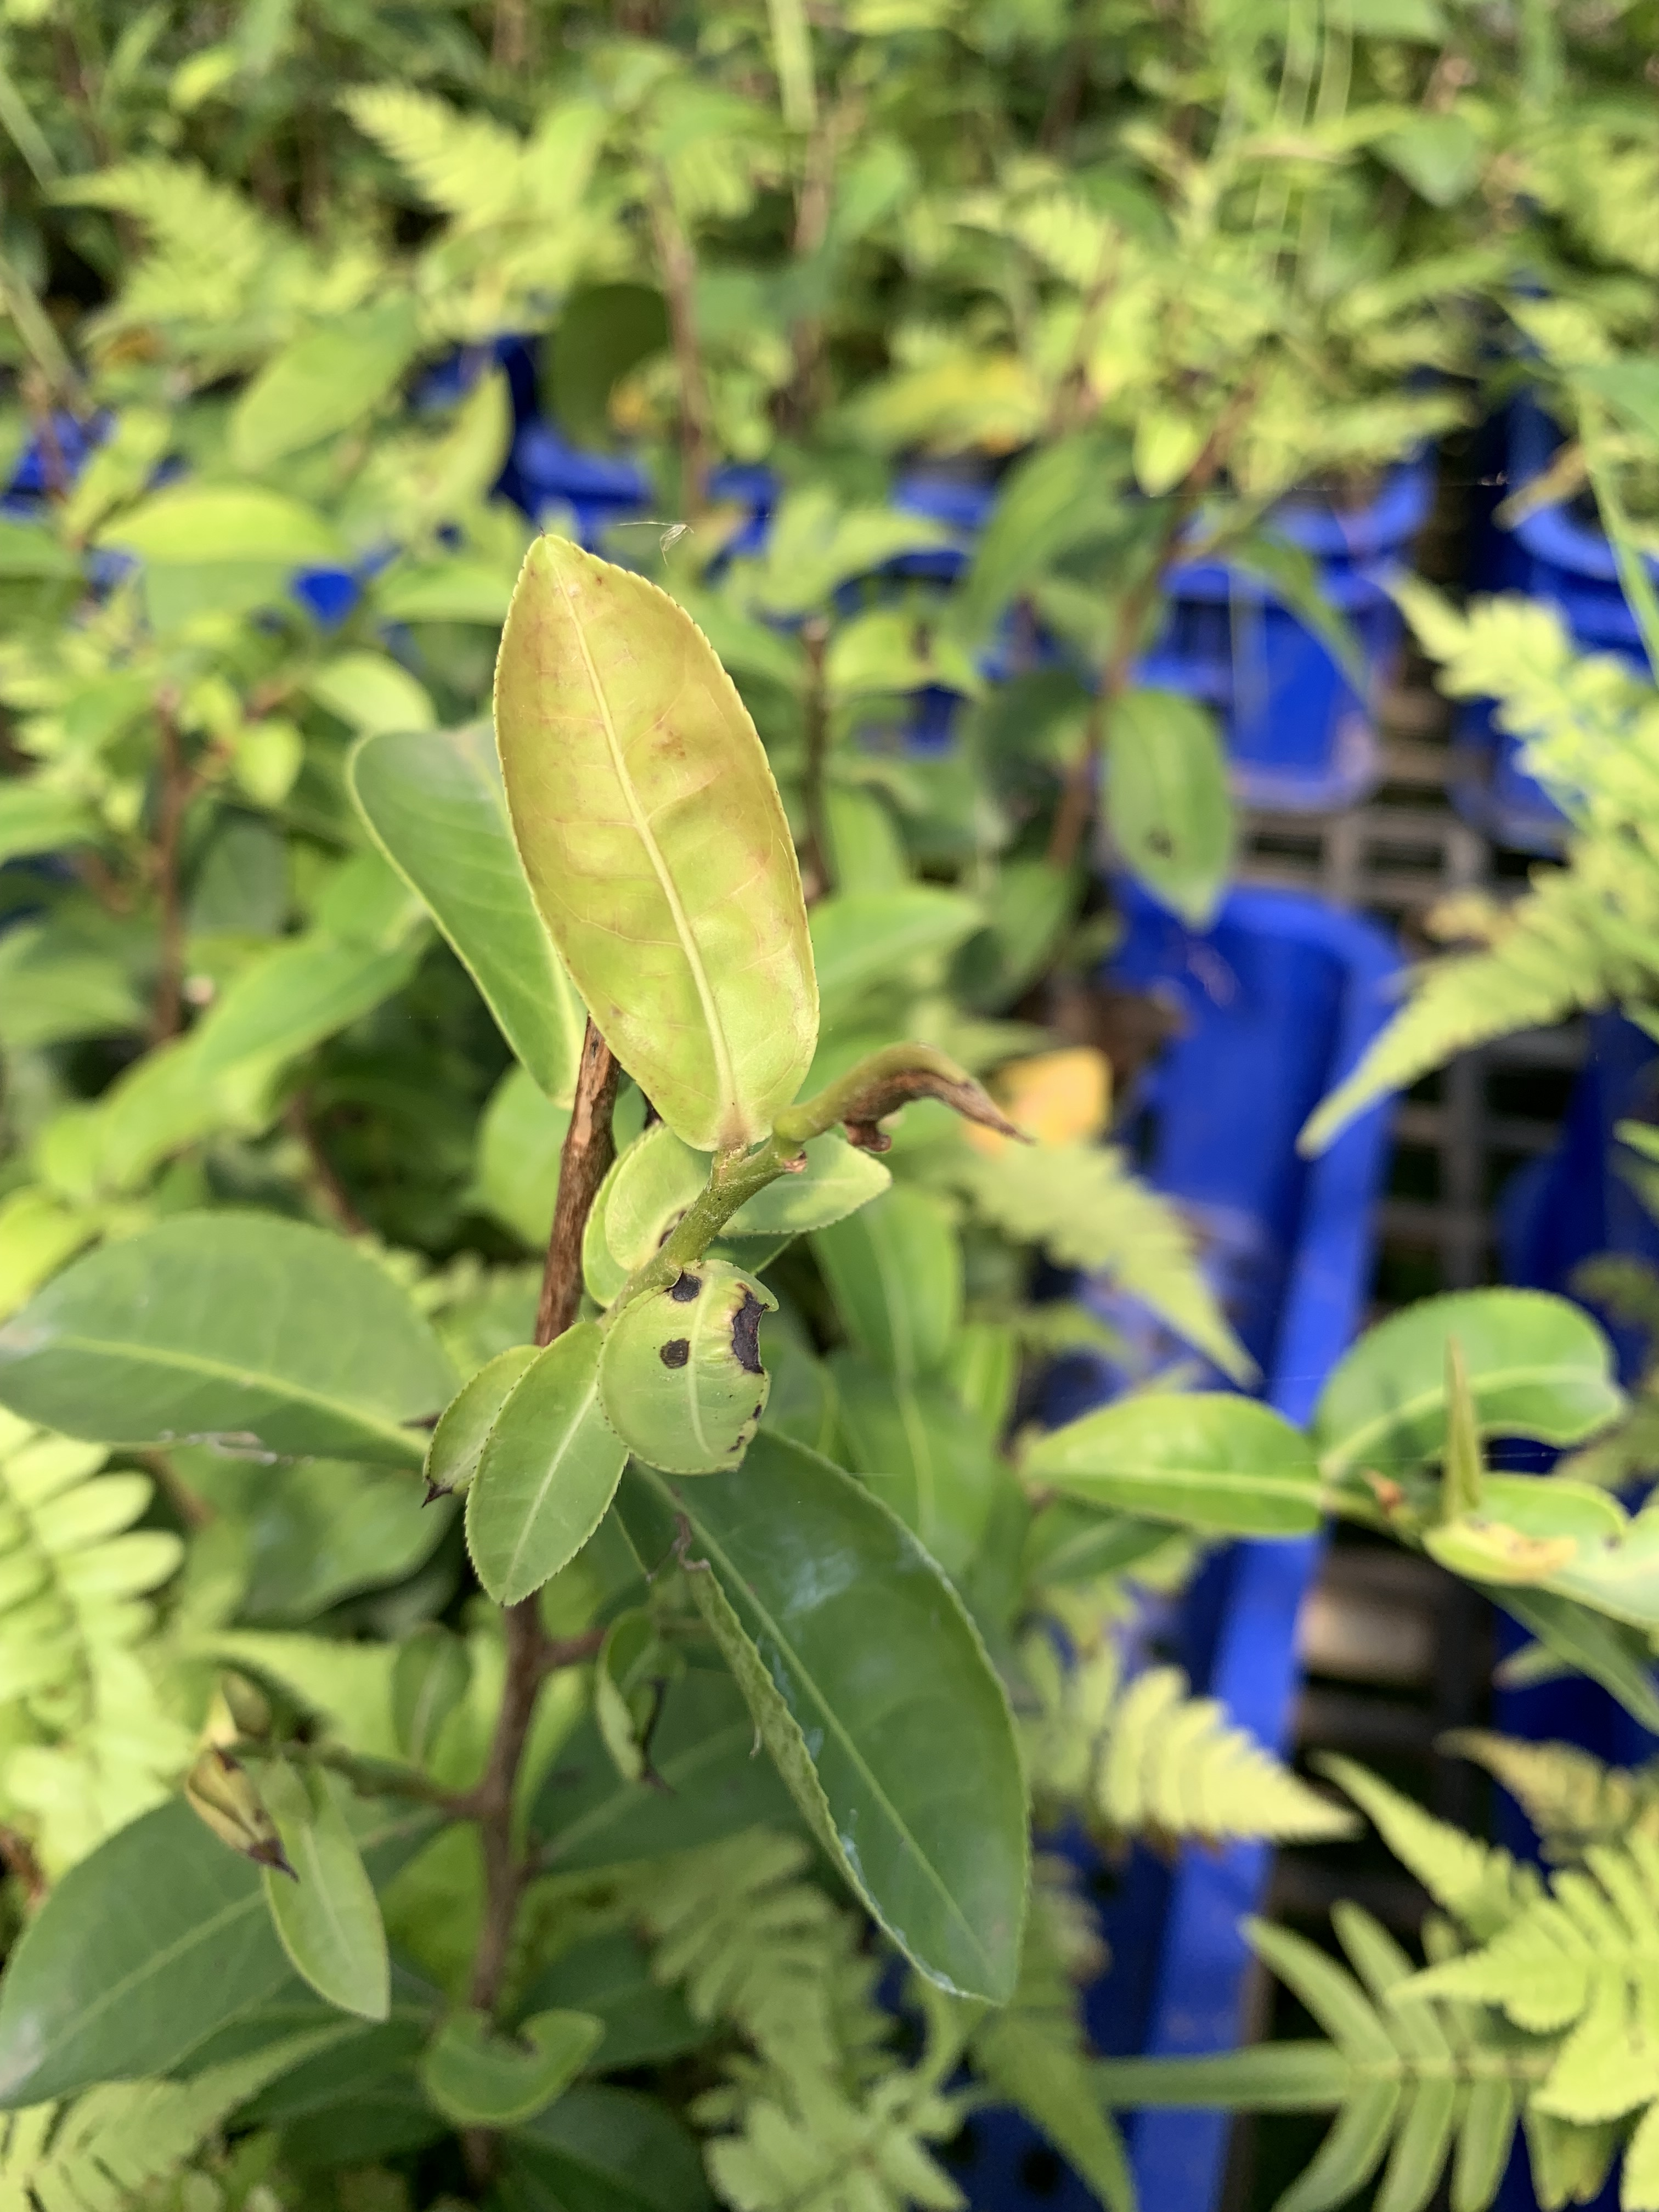formosa: (483, 514, 838, 1148)
